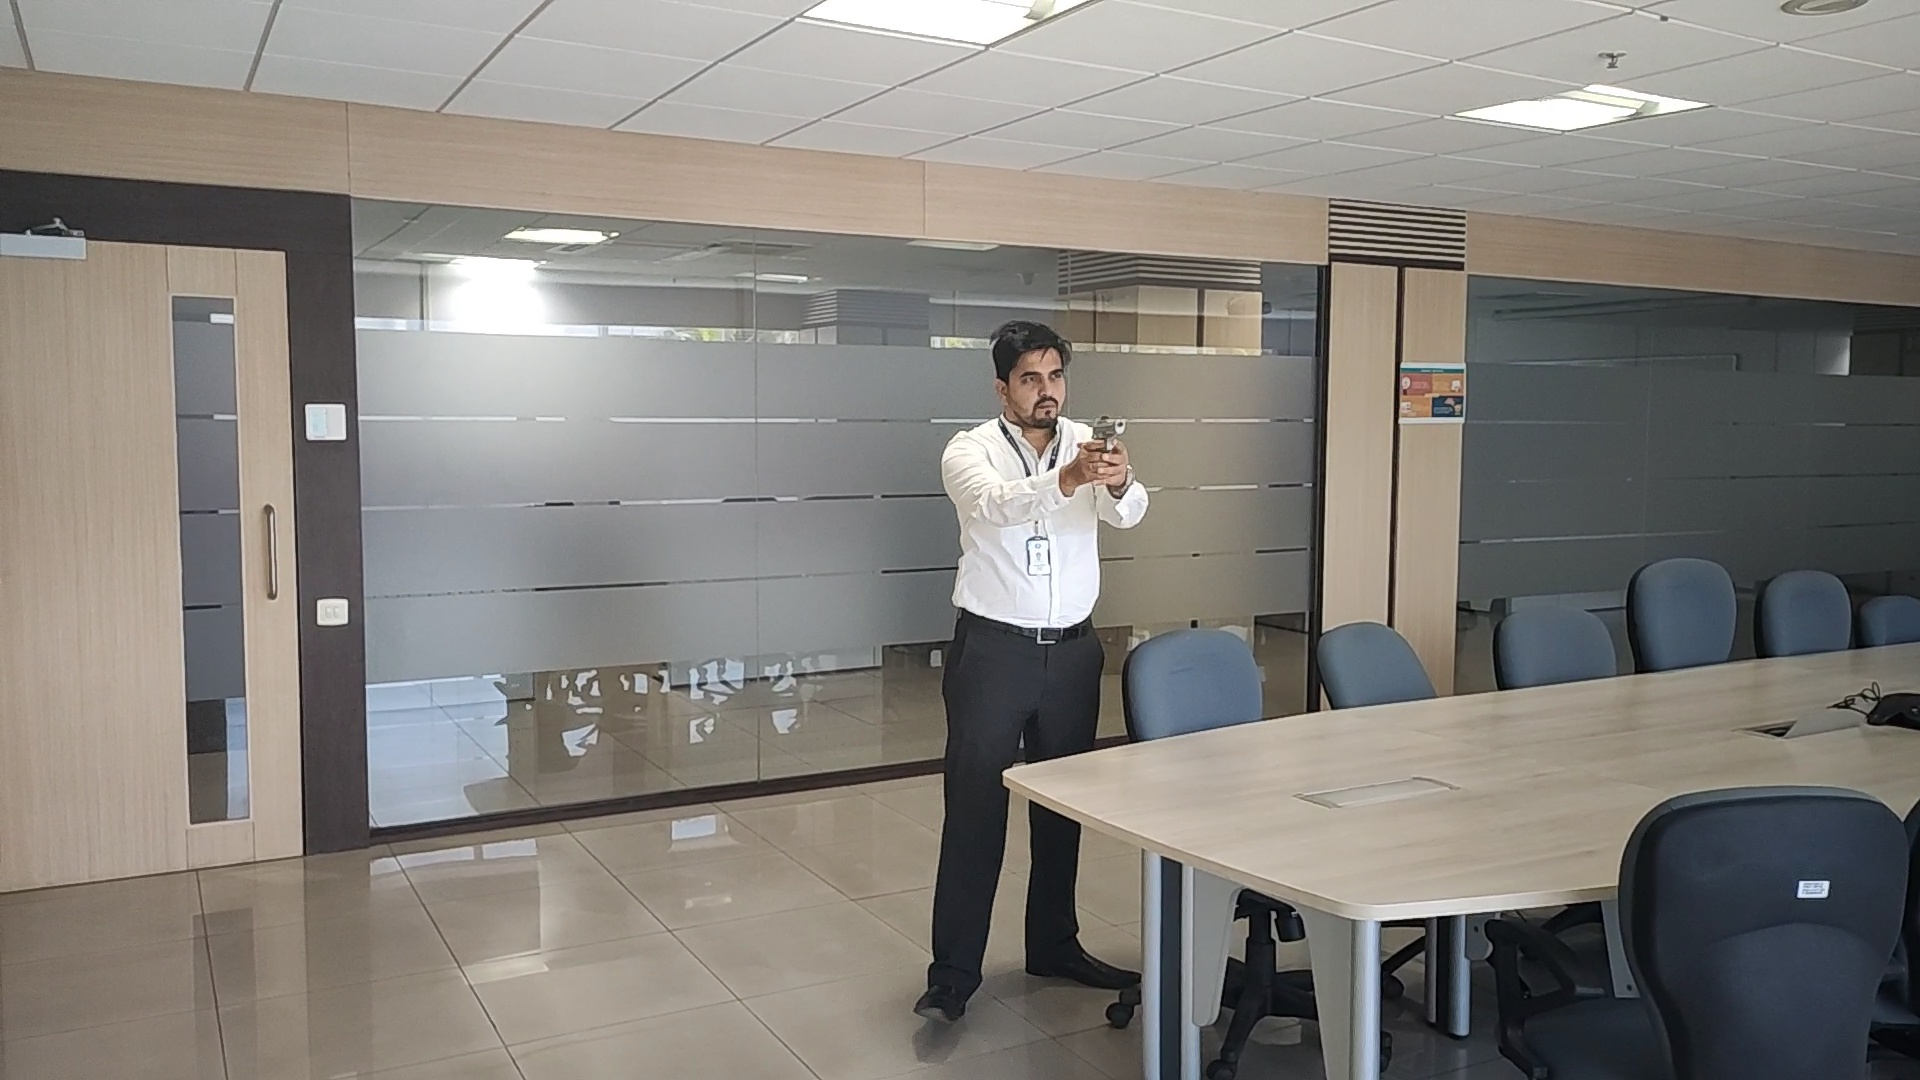gun: (1092, 415, 1130, 452)
